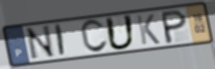C: (79, 18, 110, 55)
I: (55, 23, 67, 59)
K: (135, 13, 162, 46)
N: (24, 24, 58, 62)
P: (161, 9, 189, 46)
U: (104, 13, 137, 52)
